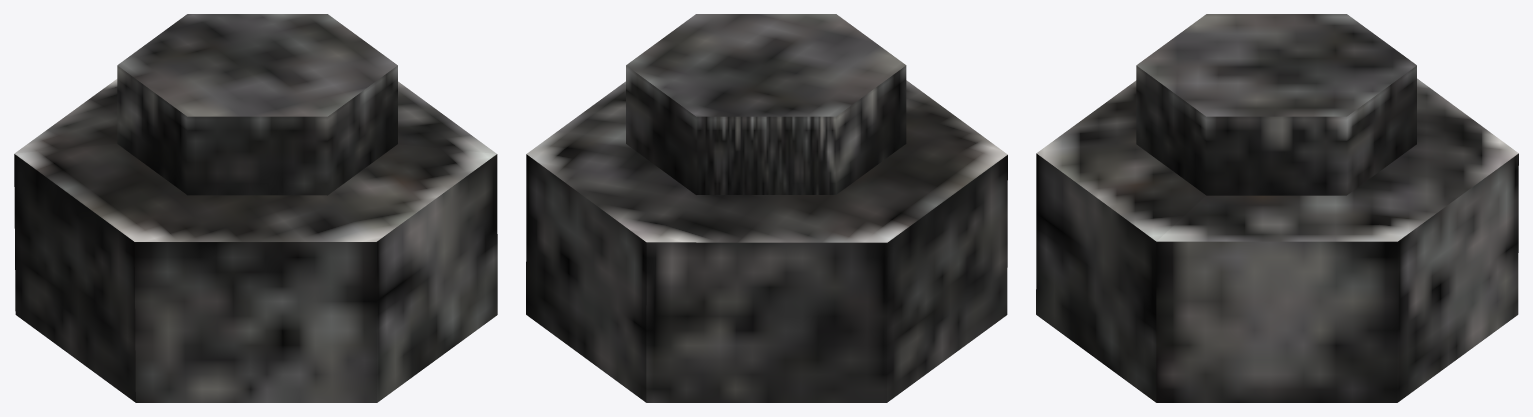
File: p_rus_angle_plate_bolt_lod1.glb
The picture shows the model from 3 angles, left to right: view 1: azimuth 30°, elevation 25°; view 2: azimuth 150°, elevation 25°; view 3: azimuth 270°, elevation 25°; orthographic projection.
Visible parts, largest first — view 1: surf0; view 2: surf0; view 3: surf0.
Boxes of the visible parts, box(x1,y1,x2,y2) form: surf0: box(14, 14, 497, 402); surf0: box(526, 14, 1007, 402); surf0: box(1036, 14, 1518, 402).
Bounding box in the file's own units: 1.72 × 1.13 × 1.99.
